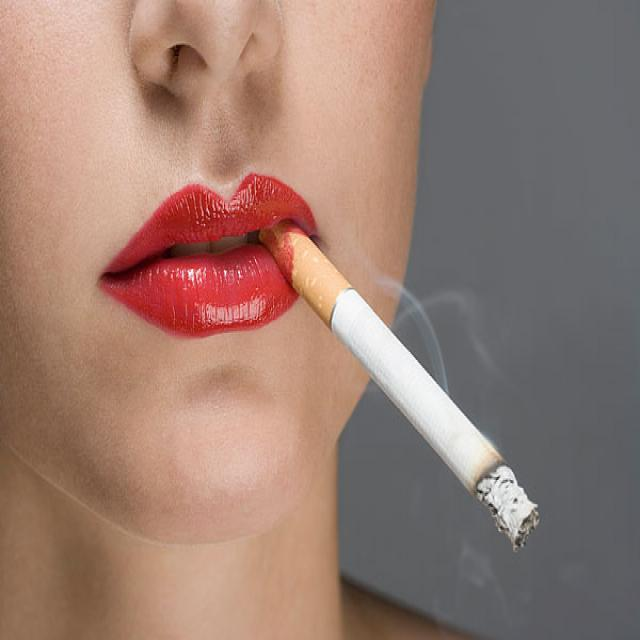smoking: (272, 215, 539, 552)
